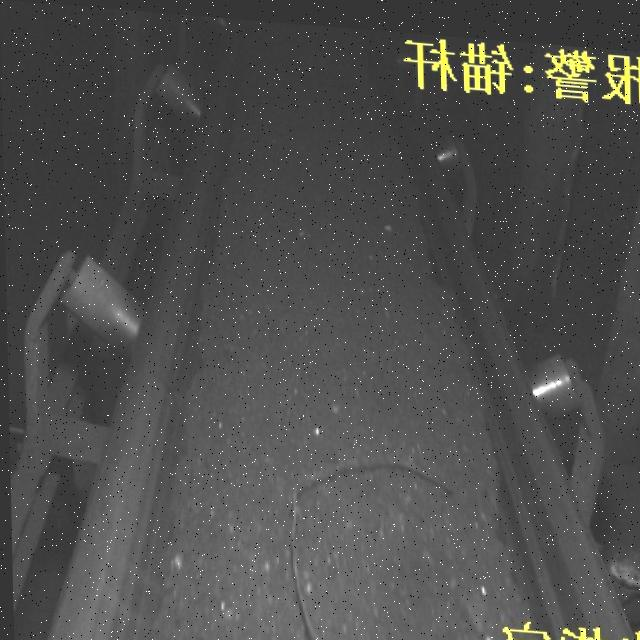bolt: (281, 442, 451, 640)
